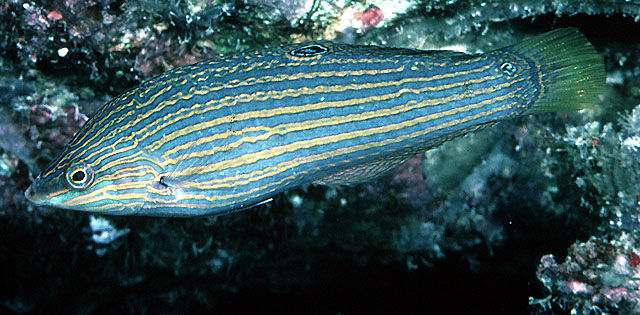fish: (25, 24, 606, 219)
